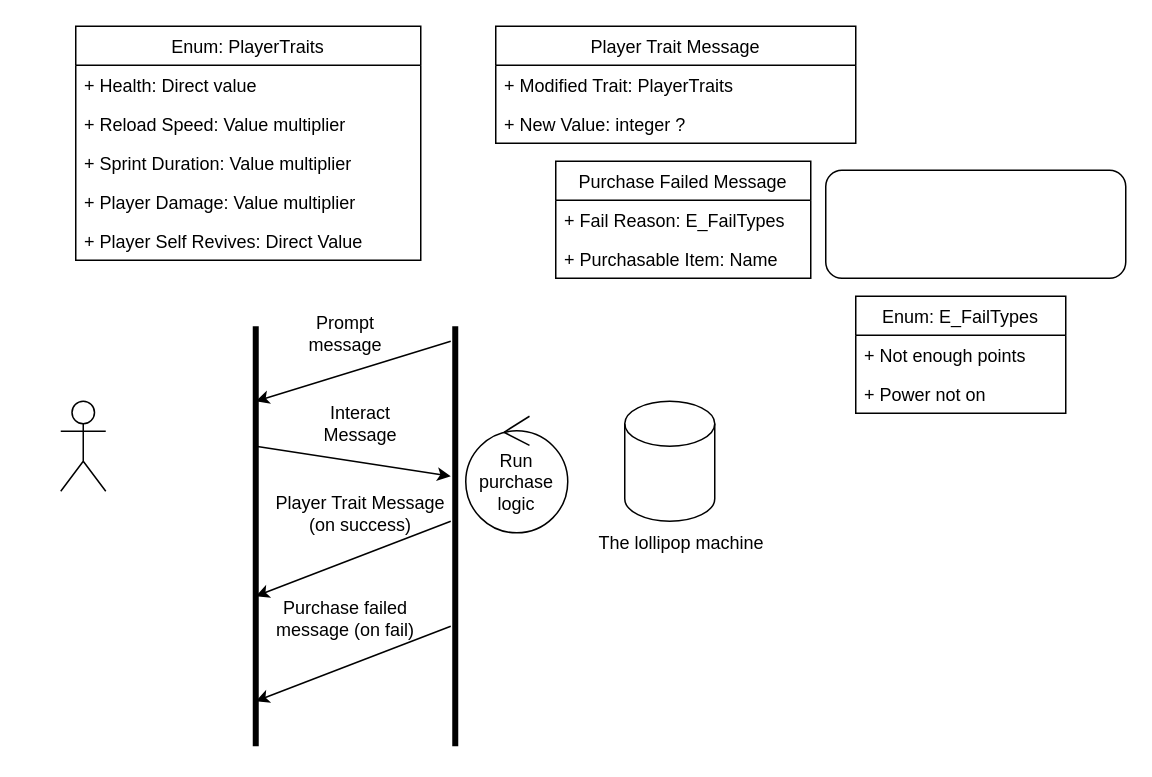
The diagram is 1152 pixels wide and 777 high, and some of its shapes have lost their labels. Here are the shapes that lost their labels. From the top down, the centre of each, then its label:
the point at 975,223: This interface can be re-used for all purchases the player can make
the point at 82,445: The Employee
